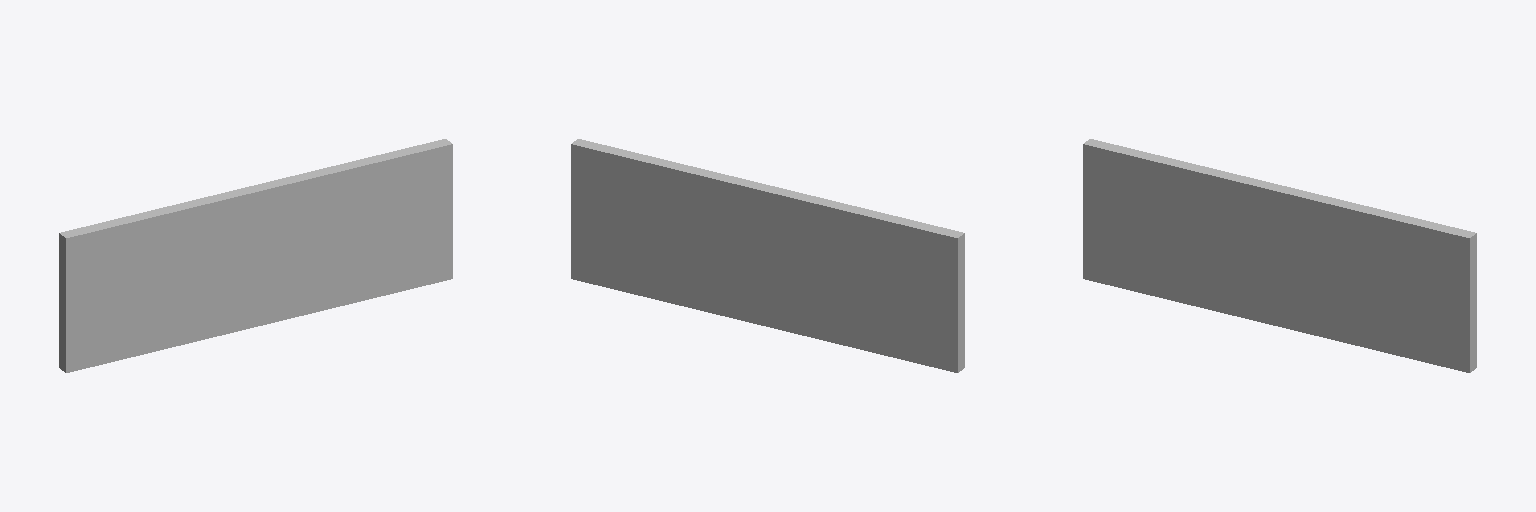
File: warning.obj
3 views of the same model, side by side, from view 1: azimuth 30°, elevation 25°; view 2: azimuth 150°, elevation 25°; view 3: azimuth 330°, elevation 25° (orthographic).
Parts seen in each view (by area): view 1: object 1; view 2: object 1; view 3: object 1.
Boxes of the visible parts, x1=… form: object 1: x1=59, y1=139, x2=452, y2=372; object 1: x1=571, y1=139, x2=964, y2=372; object 1: x1=1083, y1=139, x2=1476, y2=372.
Size of the model in its own units: 3 by 1 by 0.1.